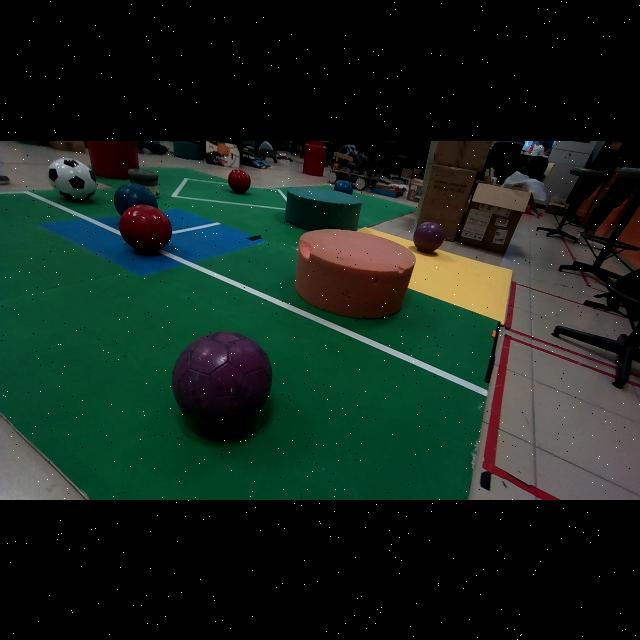B: (114, 184, 158, 214)
P: (172, 331, 272, 428), (414, 221, 445, 252)
R: (120, 203, 172, 253), (228, 168, 250, 192)
